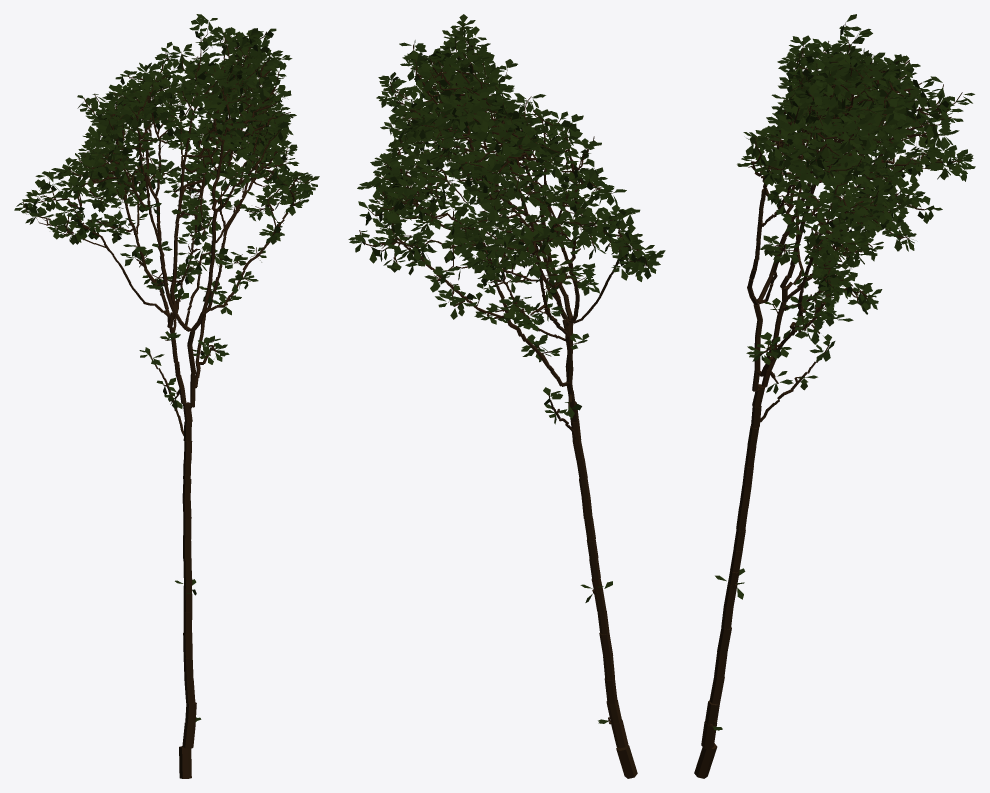
Rendered from tree_161.obj.
3 views of the same model, side by side, from view 1: azimuth 30°, elevation 25°; view 2: azimuth 150°, elevation 25°; view 3: azimuth 270°, elevation 25° (orthographic). The views are drawn at different scales.
Parts seen in each view (by area): view 1: Leaves, TrunkAndBranches; view 2: Leaves, TrunkAndBranches; view 3: Leaves, TrunkAndBranches.
Part boxes in pixels (x1,y1,x2,y2): Leaves: (14,14,319,721); TrunkAndBranches: (23,20,309,778); Leaves: (348,14,665,723); TrunkAndBranches: (359,24,648,778); Leaves: (712,14,975,730); TrunkAndBranches: (694,22,962,778).
Size of the model in its own units: 7.98 by 18.34 by 5.81.
